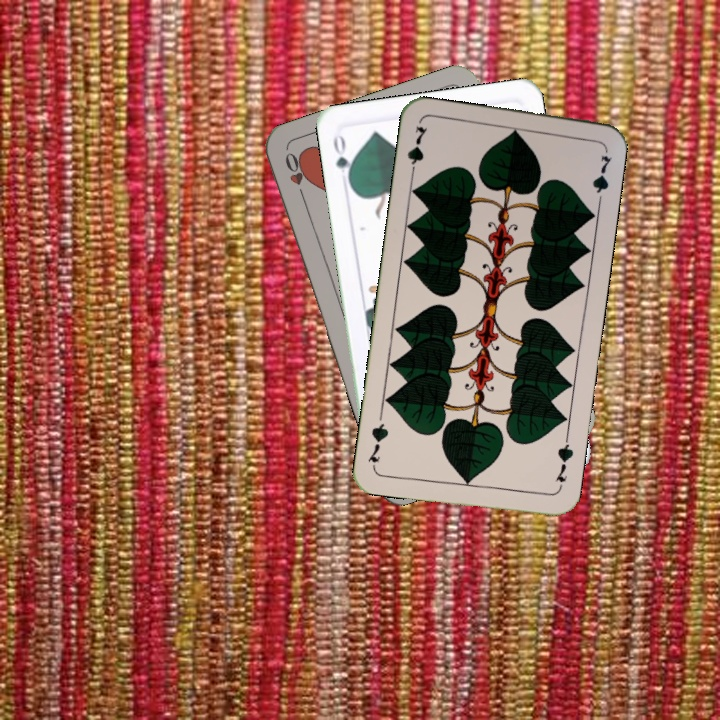G7: (403, 122, 430, 180), (551, 434, 576, 485)
GO: (329, 129, 356, 188)
HO: (281, 148, 309, 205)
